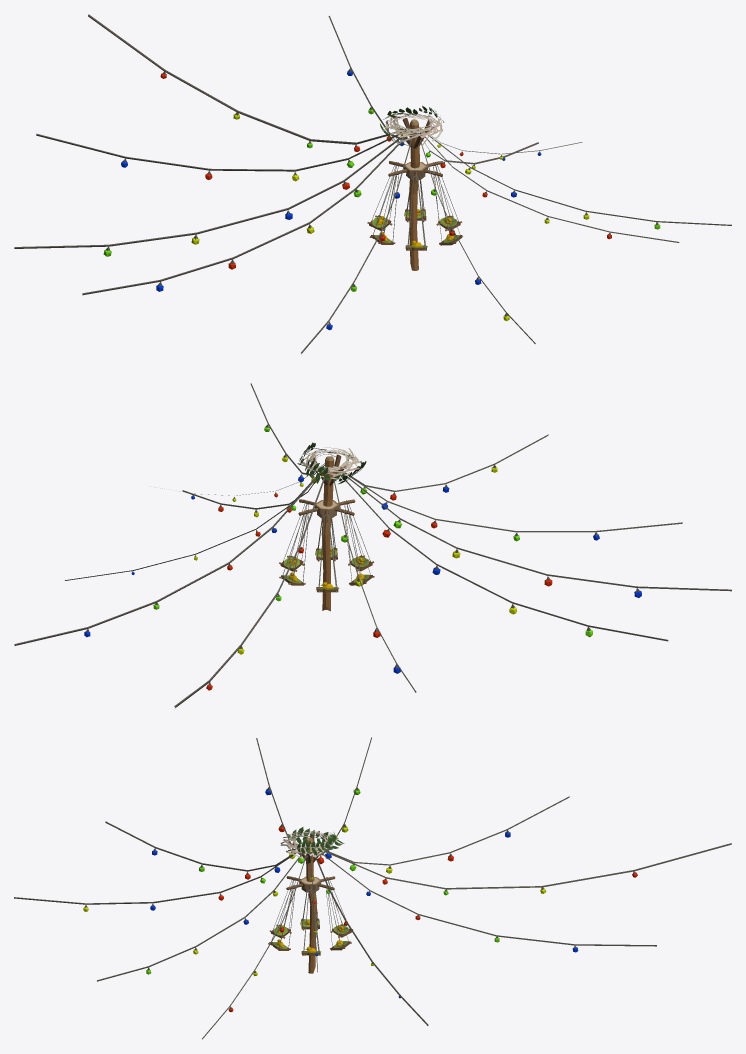
3 views of the same model, one above another, from view 1: azimuth 30°, elevation 25°; view 2: azimuth 150°, elevation 25°; view 3: azimuth 270°, elevation 25° (orthographic). The views are drawn at different scales.
Visible parts, largest first — view 1: nestStage_29, rotatingDucklings; view 2: nestStage_29, rotatingDucklings; view 3: nestStage_29, rotatingDucklings.
Part boxes in pixels (x1,y1,x2,y2): nestStage_29: (14,14,731,353); rotatingDucklings: (367,161,462,250); nestStage_29: (14,383,731,707); rotatingDucklings: (279,499,374,592); nestStage_29: (14,737,731,1039); rotatingDucklings: (268,876,352,955).
Bounding box in the file's own units: 15.26 × 4.06 × 18.83.
